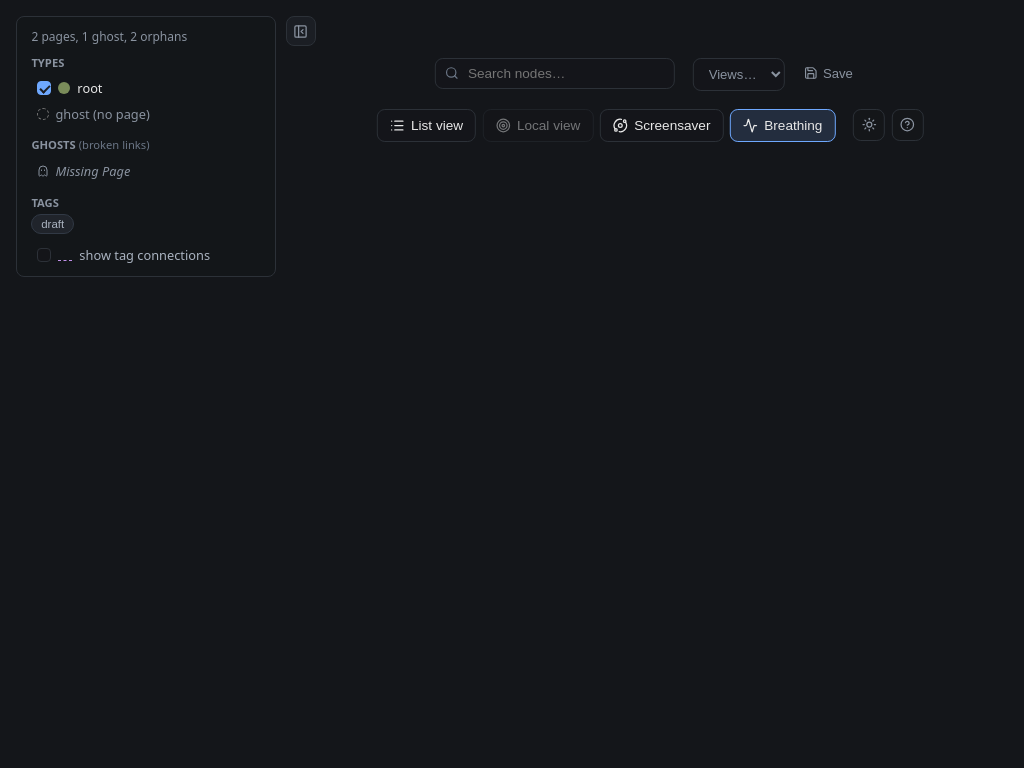
Test case: App — tag search + ghosts panel (M6) › clicking a ghost in the Filters panel opens the reader's not-found state
The image size is (1024, 768).
Expected: the heading "Ghosts (broken links)" is shown, [31,137,150,152]
Click the button "Missing Page": [146, 171] box [31,157,261,184]
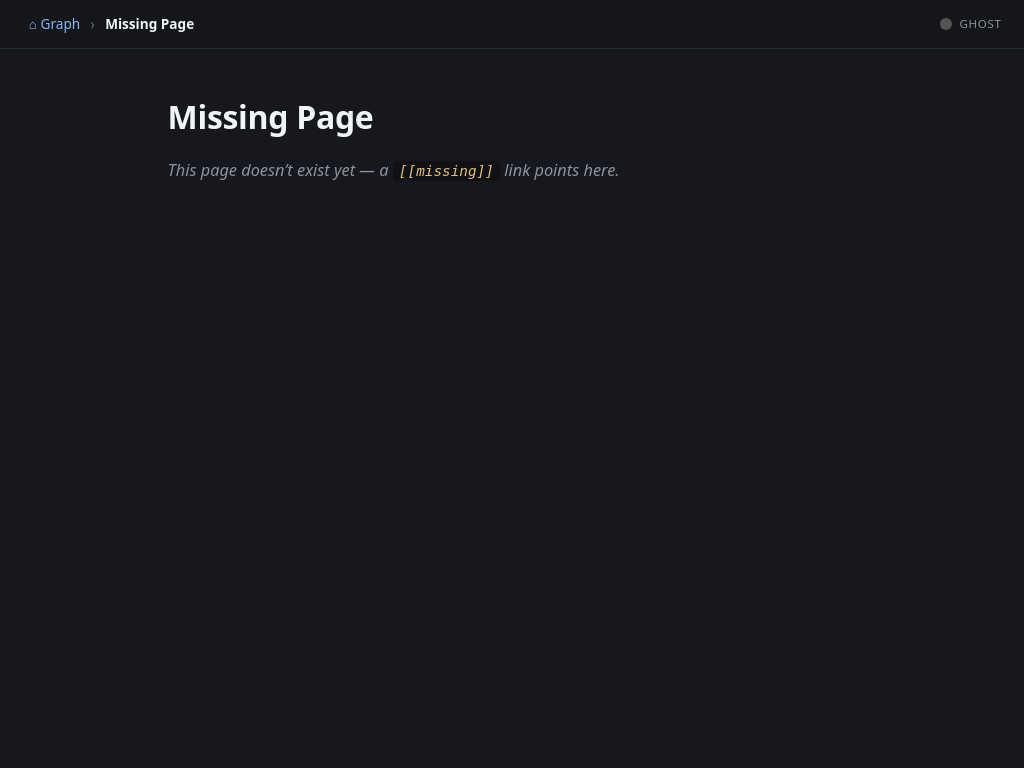
Expected: the text "doesn.t exist yet" is shown, [168,159,393,181]
